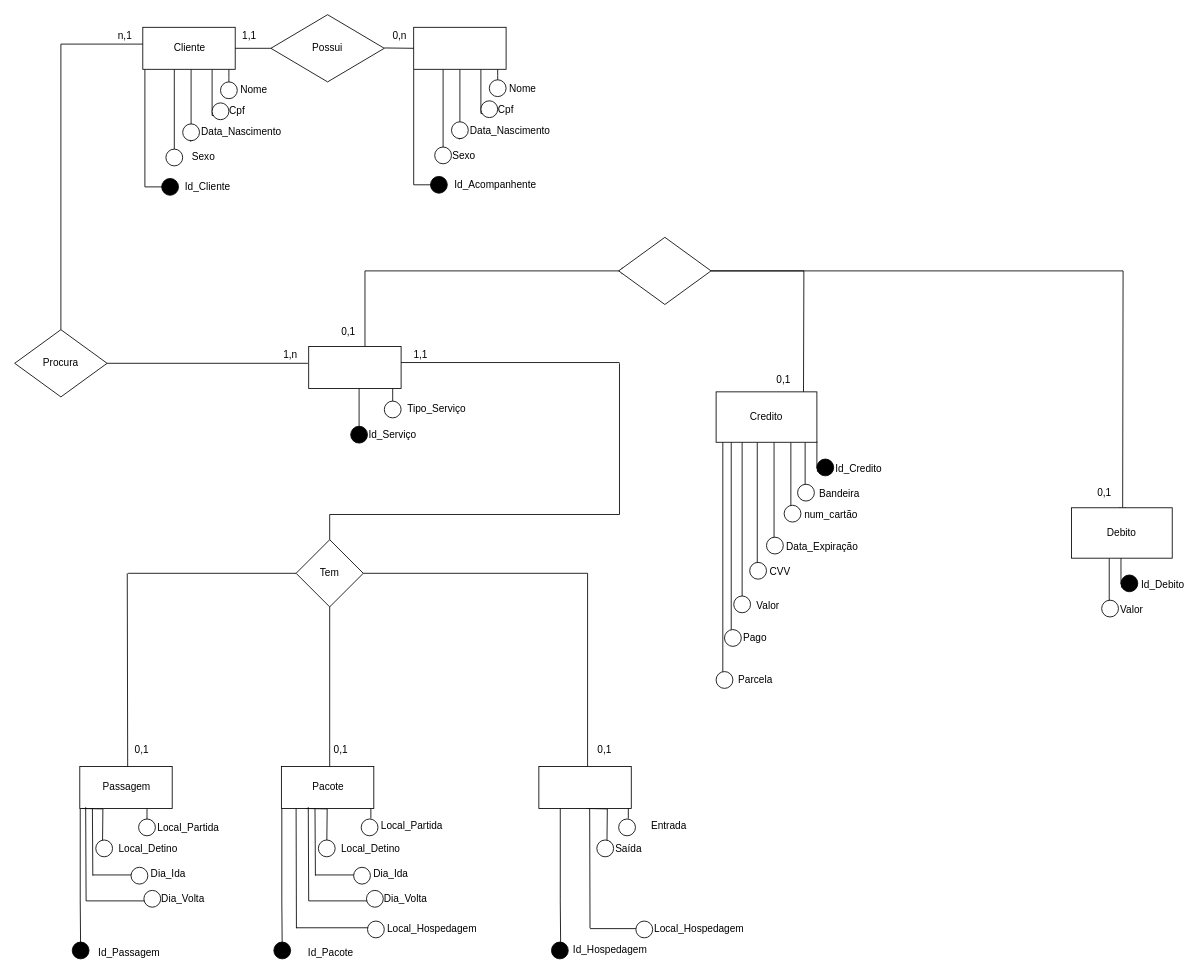
This 1203x978 diagram has some shape labels left out. The shapes that lost their labels are listed below. From the top down, each one's box as (x1, y1, x2, y2) in pixels, then its label:
(413, 26, 506, 69): Acompanhante
(618, 236, 711, 304): Paga
(308, 346, 401, 388): Serviço
(538, 766, 631, 808): Hospedagem
